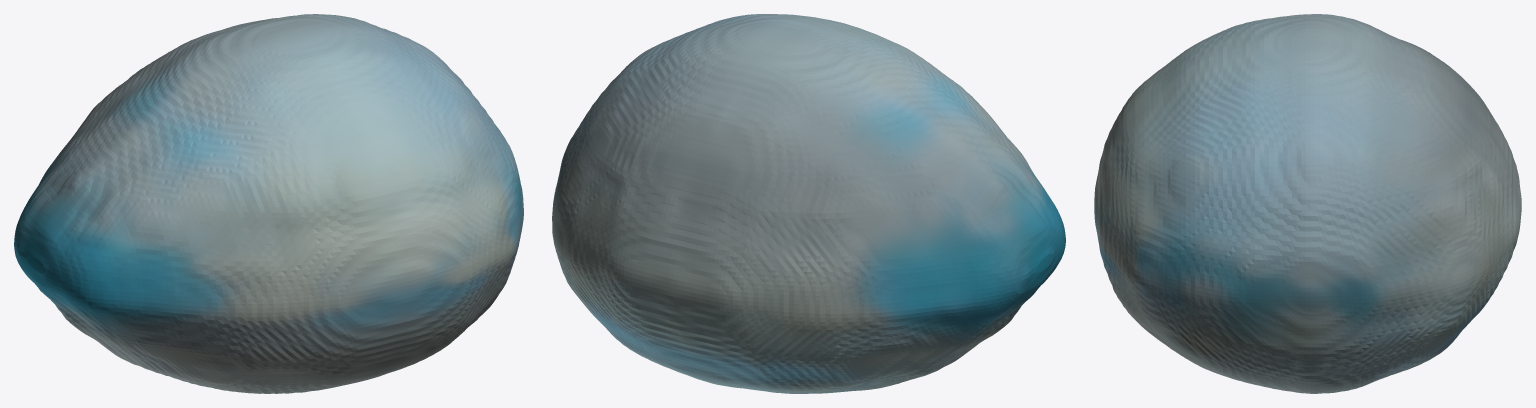
The picture shows the model from 3 angles, left to right: view 1: azimuth 30°, elevation 25°; view 2: azimuth 150°, elevation 25°; view 3: azimuth 270°, elevation 25°; orthographic projection. The views are drawn at different scales.
Parts seen in each view (by area): view 1: tmp5097oq17.ply; view 2: tmp5097oq17.ply; view 3: tmp5097oq17.ply.
Part boxes in pixels (<box>): tmp5097oq17.ply: <box>14,14,523,393</box>; tmp5097oq17.ply: <box>552,14,1065,393</box>; tmp5097oq17.ply: <box>1094,14,1521,393</box>.
Size of the model in its own units: 1.71 by 1.19 by 1.44.
